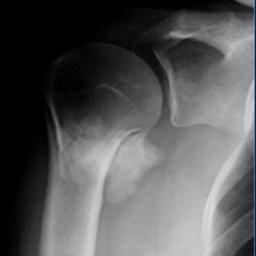cancer: (54, 112, 166, 201)
